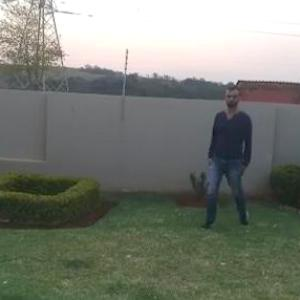follow: (204, 84, 254, 234)
